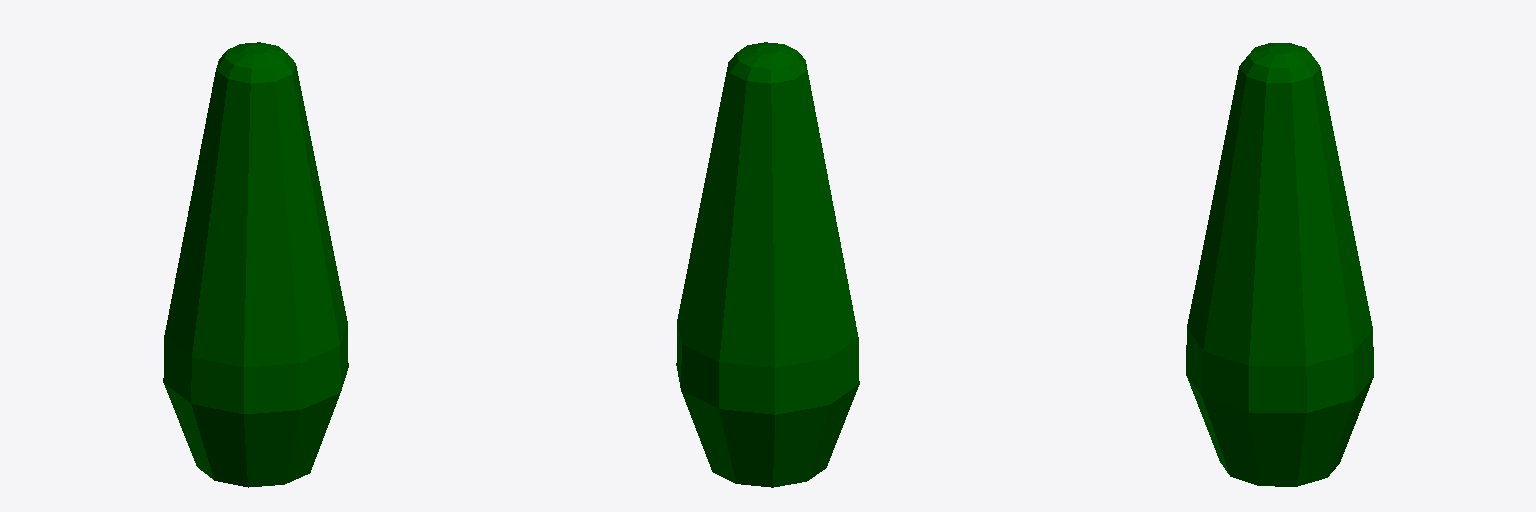
Rendered from Tree_z_Icon_2.obj.
3 views of the same model, side by side, from view 1: azimuth 30°, elevation 25°; view 2: azimuth 150°, elevation 25°; view 3: azimuth 270°, elevation 25° (orthographic).
Parts seen in each view (by area): view 1: Mesh1 Model; view 2: Mesh1 Model; view 3: Mesh1 Model.
Boxes of the visible parts, x1=… form: Mesh1 Model: x1=163, y1=42, x2=348, y2=487; Mesh1 Model: x1=676, y1=42, x2=859, y2=487; Mesh1 Model: x1=1186, y1=43, x2=1373, y2=486.
Bounding box in the file's own units: 84.07 × 212 × 87.64.